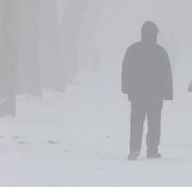person: (120, 18, 174, 160)
